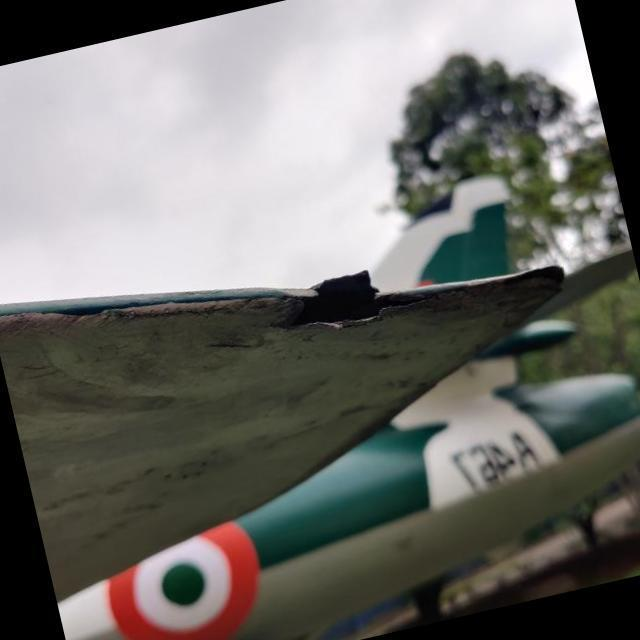Rupture: (245, 248, 409, 359)
